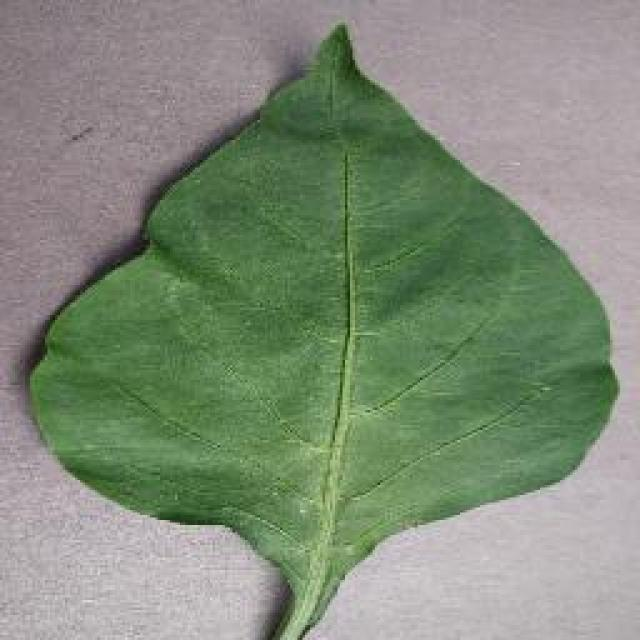Leaf: (98, 108, 518, 562)
